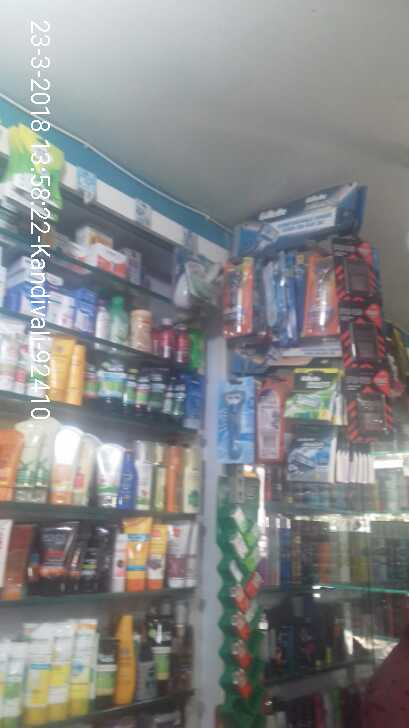beauty: (215, 381, 257, 463), (261, 255, 295, 355), (291, 370, 341, 421), (308, 253, 337, 339), (227, 263, 255, 337)
